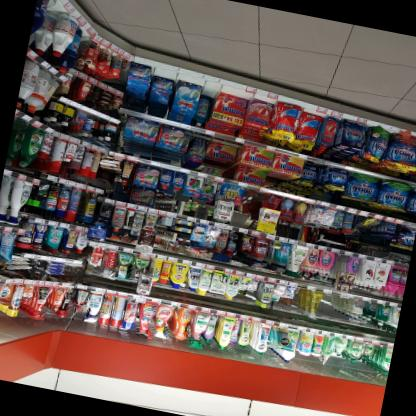empty_space: (221, 81, 250, 100), (300, 100, 326, 118), (201, 74, 217, 101), (153, 64, 177, 80), (178, 72, 202, 86), (321, 292, 332, 313), (329, 292, 342, 309)
